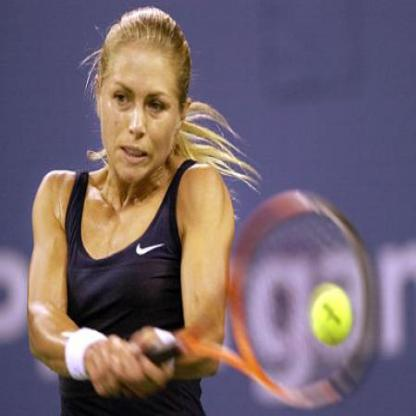face: (102, 14, 185, 188)
